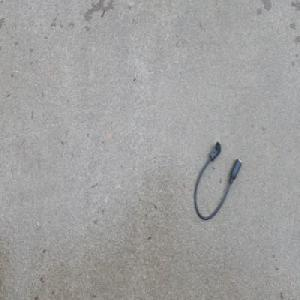Wire: (193, 140, 242, 222)
